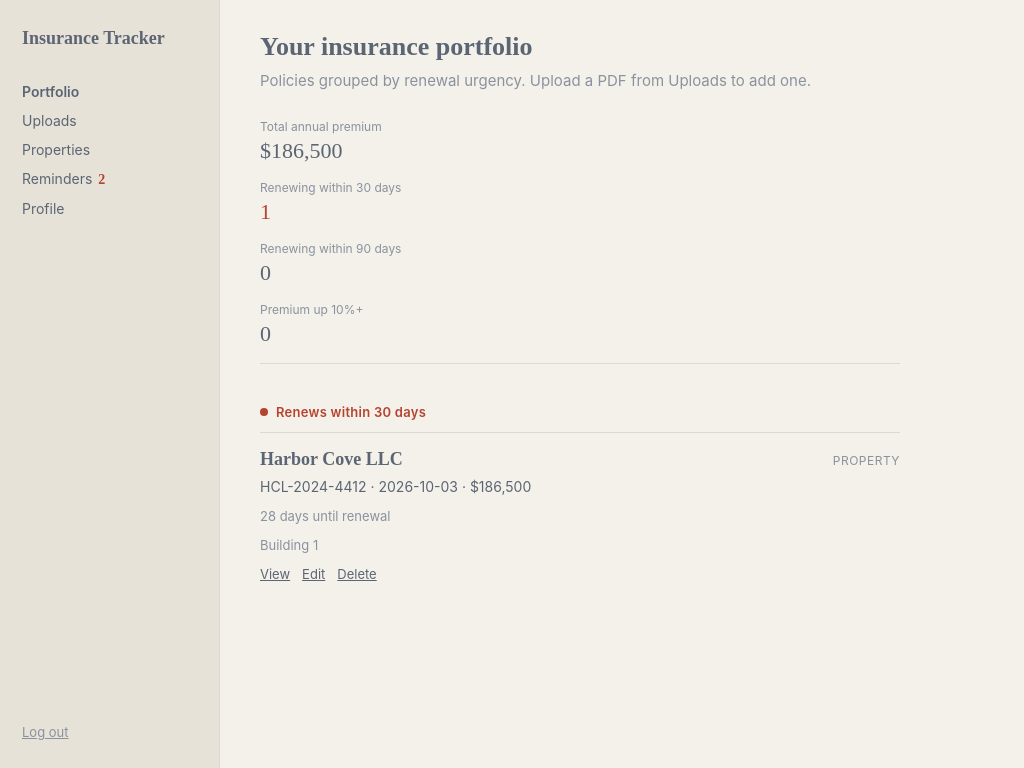
renewal reminders › keeps the unread count when navigating between pages
Click the link with aria-label "reminders, 2 unread" at (64, 178), box [22,170,105,187]
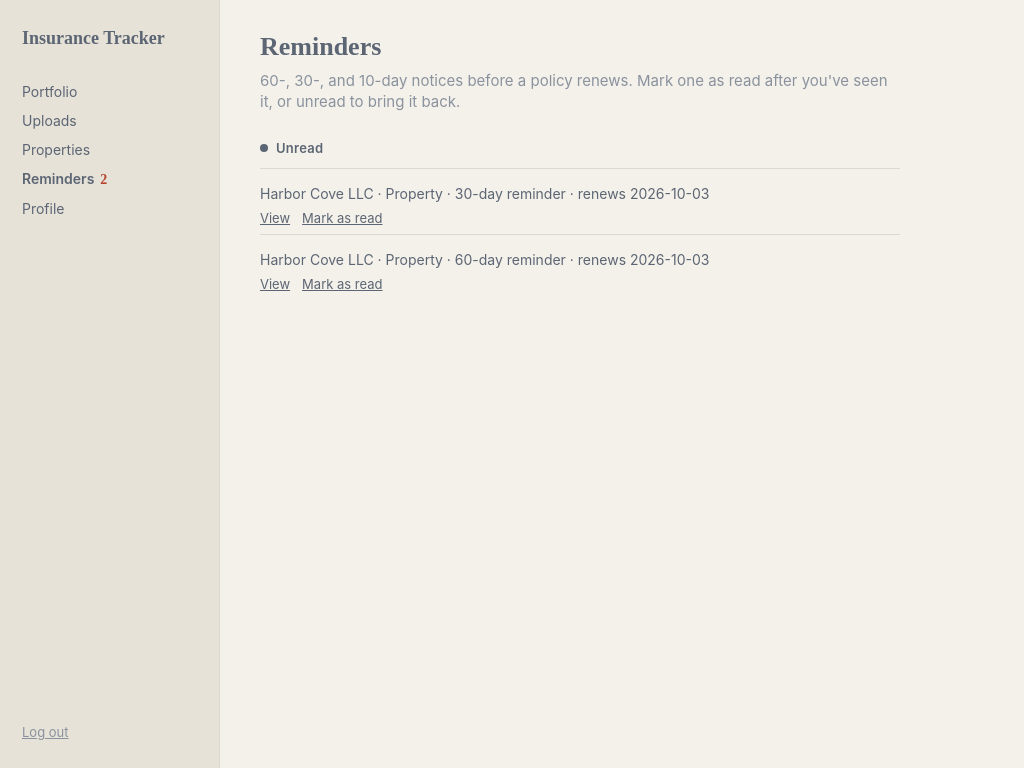
Expected: the heading "Reminders" is shown, [260,32,381,61]
